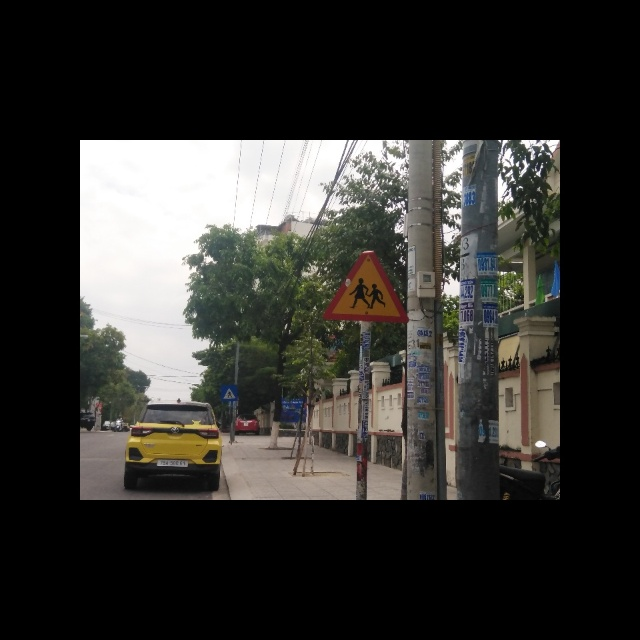Trẻ em ngang qua: (323, 250, 407, 323)
Đường dành cho người đi bộ: (220, 382, 238, 402)
